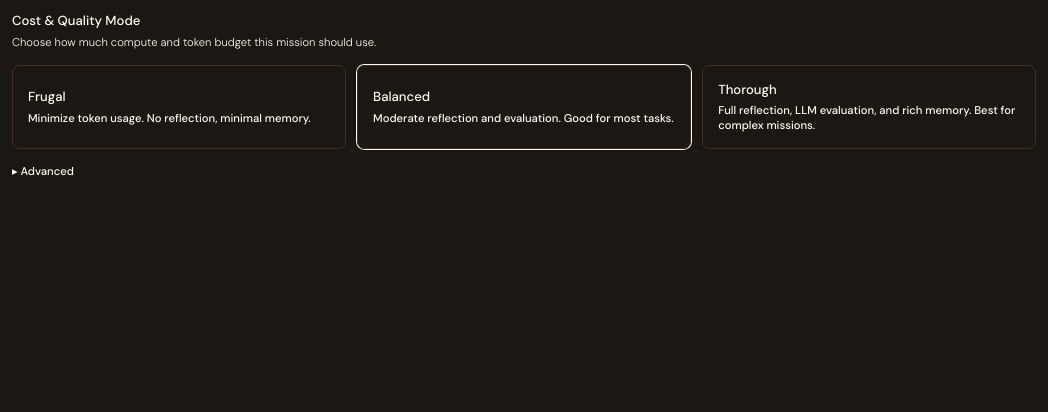
Test: StepCostQuality › shows Advanced section when expanded
This screenshot has width=1048, height=412.
What coordinates should you click on to do the following:
click the button "▸ Advanced"
I would click on:
 (43, 172)
Its box is left=12, top=164, right=74, bottom=179.
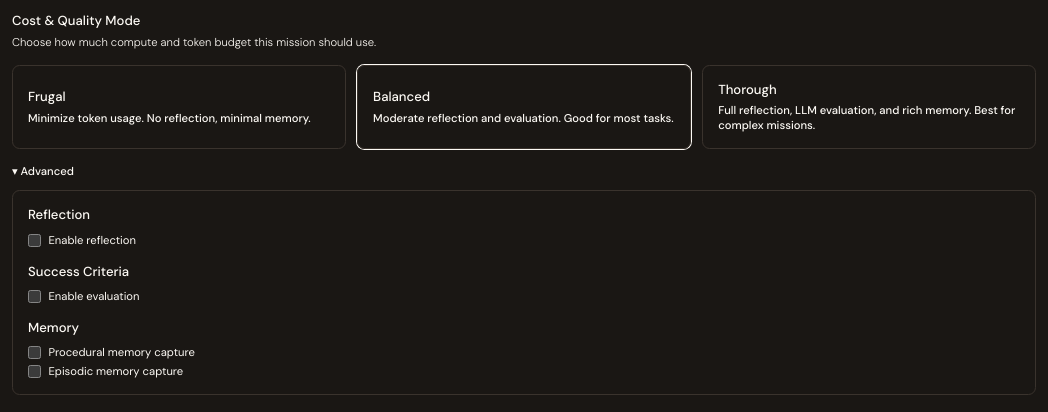
Now the text "Reflection" is shown, box left=28, top=206, right=90, bottom=223
Now the text "Success Criteria" is shown, box left=28, top=262, right=129, bottom=280
